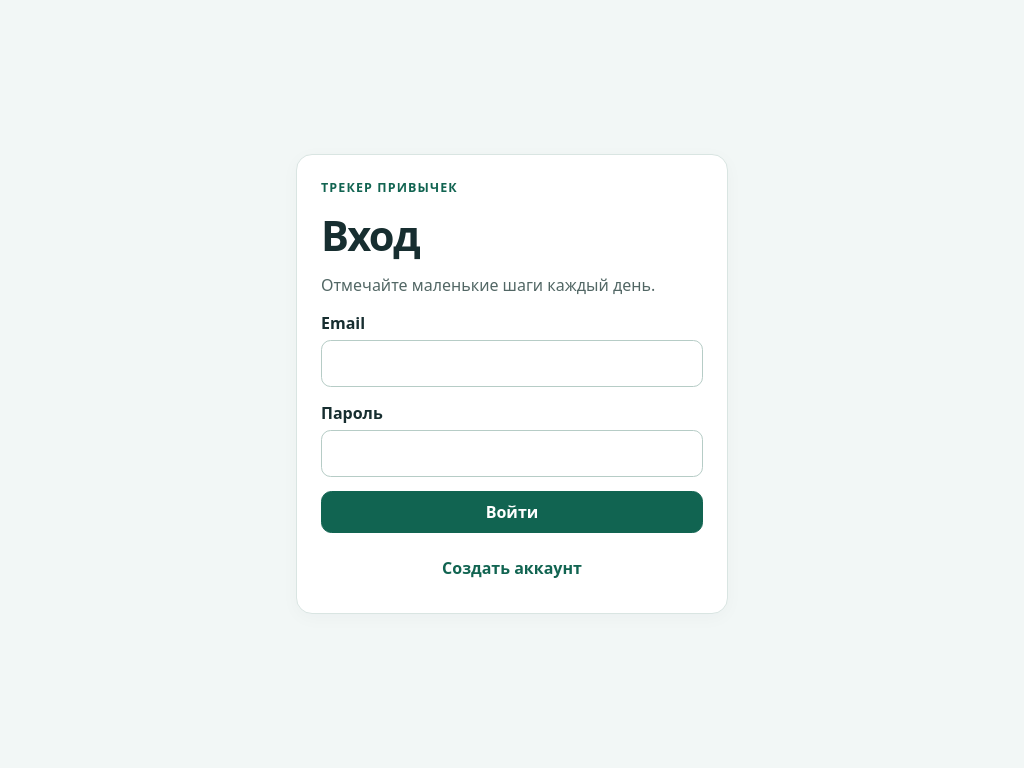
Авторизация › получает токен через login после регистрации без токена
This screenshot has width=1024, height=768.
Click the button "Создать аккаунт" at (512, 568), box [321,547,703,589]
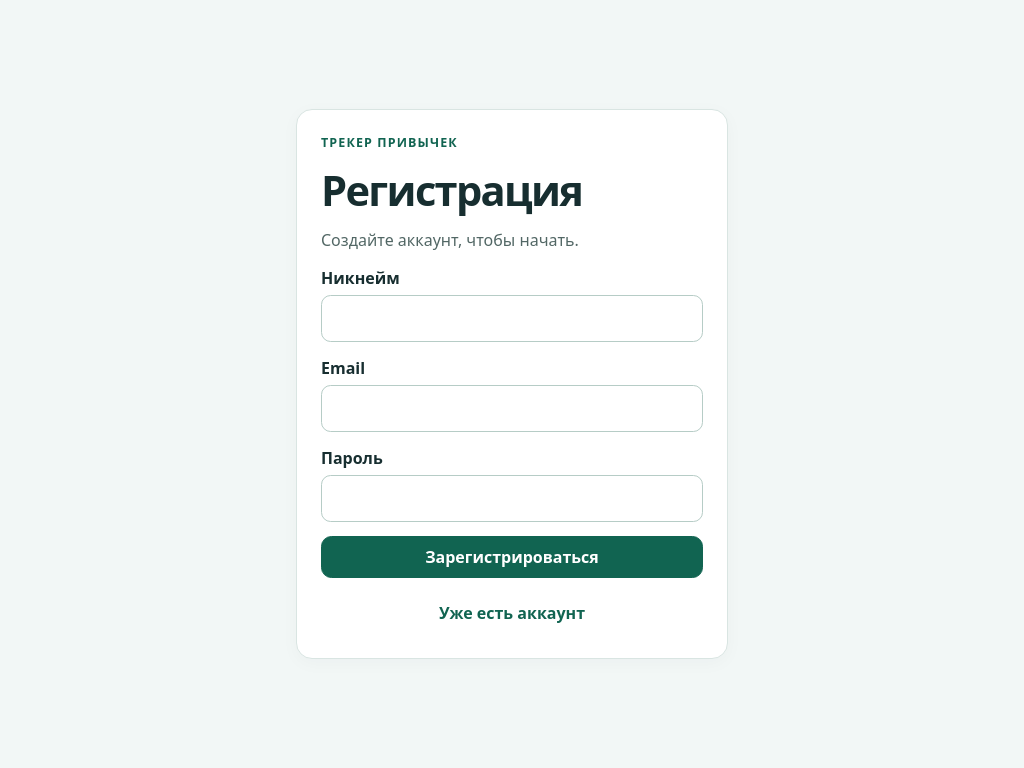
Type "Читатель" into the field labelled "Никнейм" at (512, 318), box [321,295,703,342]
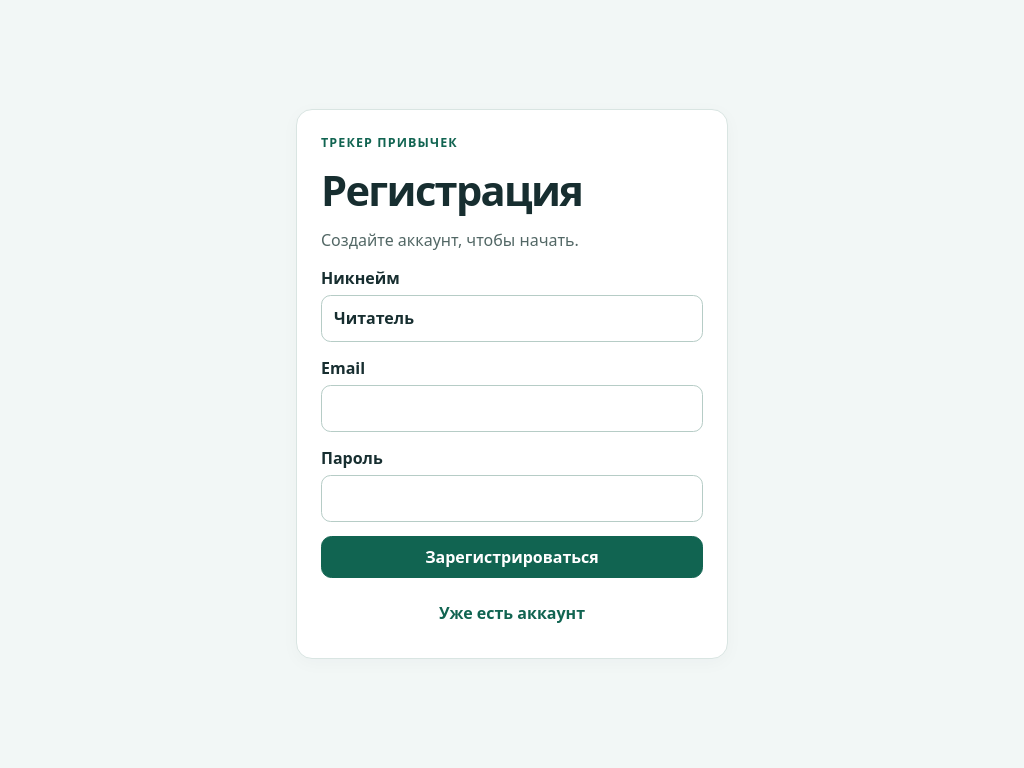
Type "reader@example.test" into the field labelled "Email" at (512, 408), box [321,385,703,432]
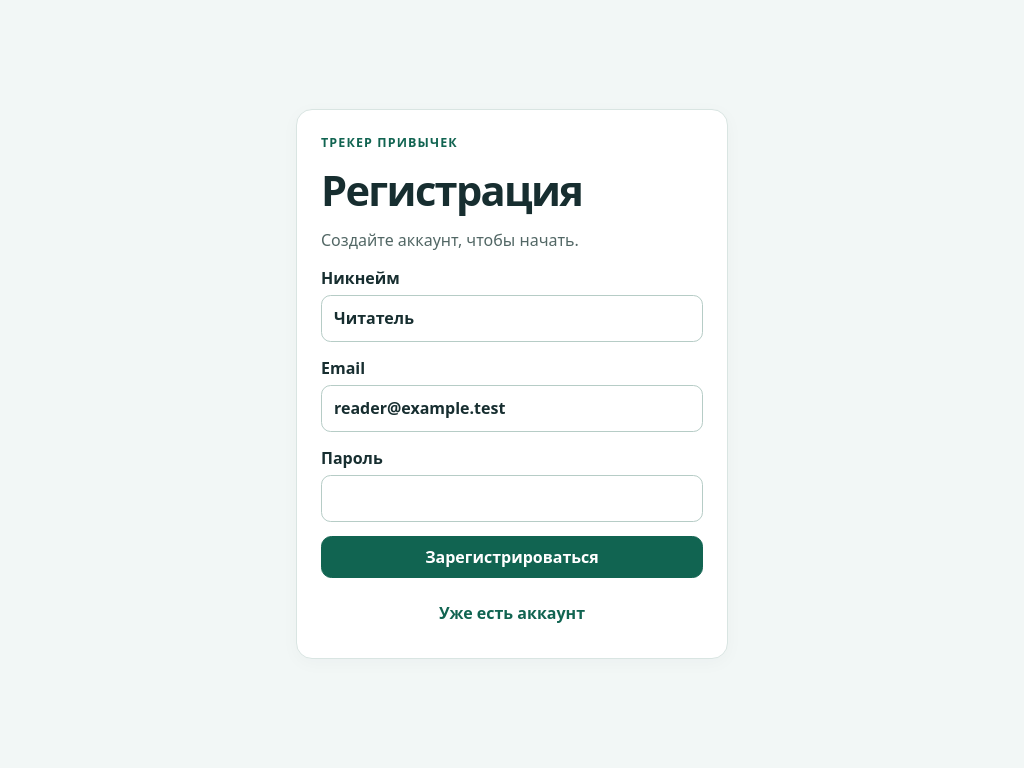
Type "password" into the password field labelled "Пароль" at (512, 498), box [321,475,703,522]
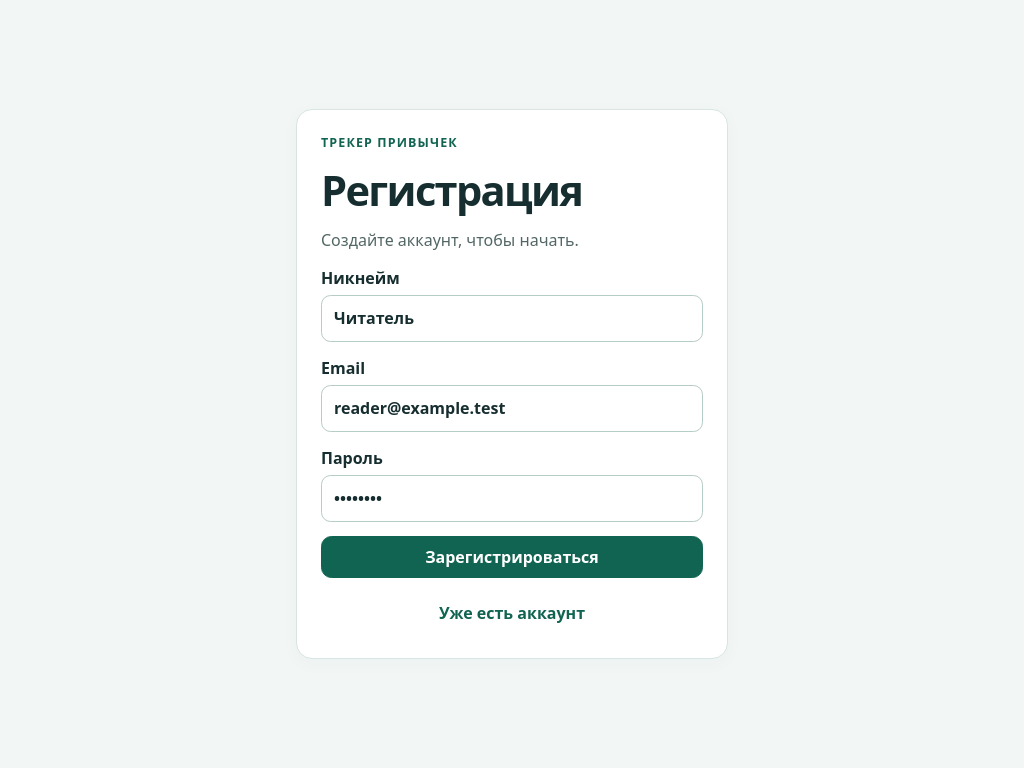
Click the button "Зарегистрироваться" at (512, 557), box [321,536,703,578]
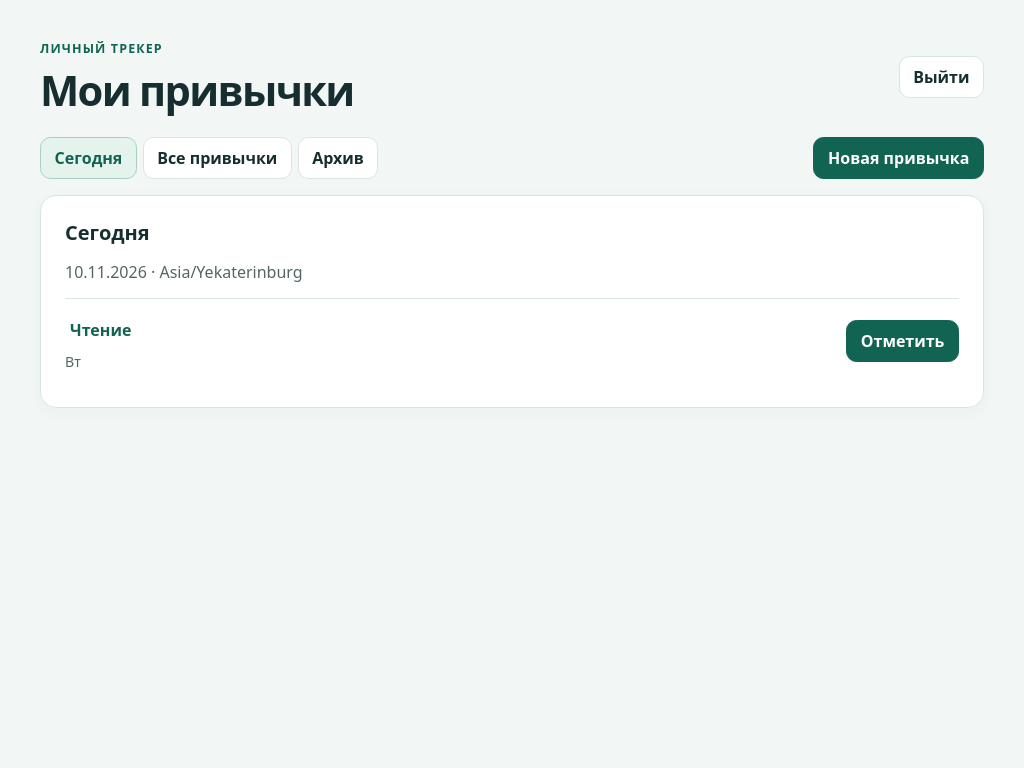
Check: the button "Отметить" is enabled, box [846,320,959,362]
Click the button "Выйти" at (941, 77), box [899,56,984,98]
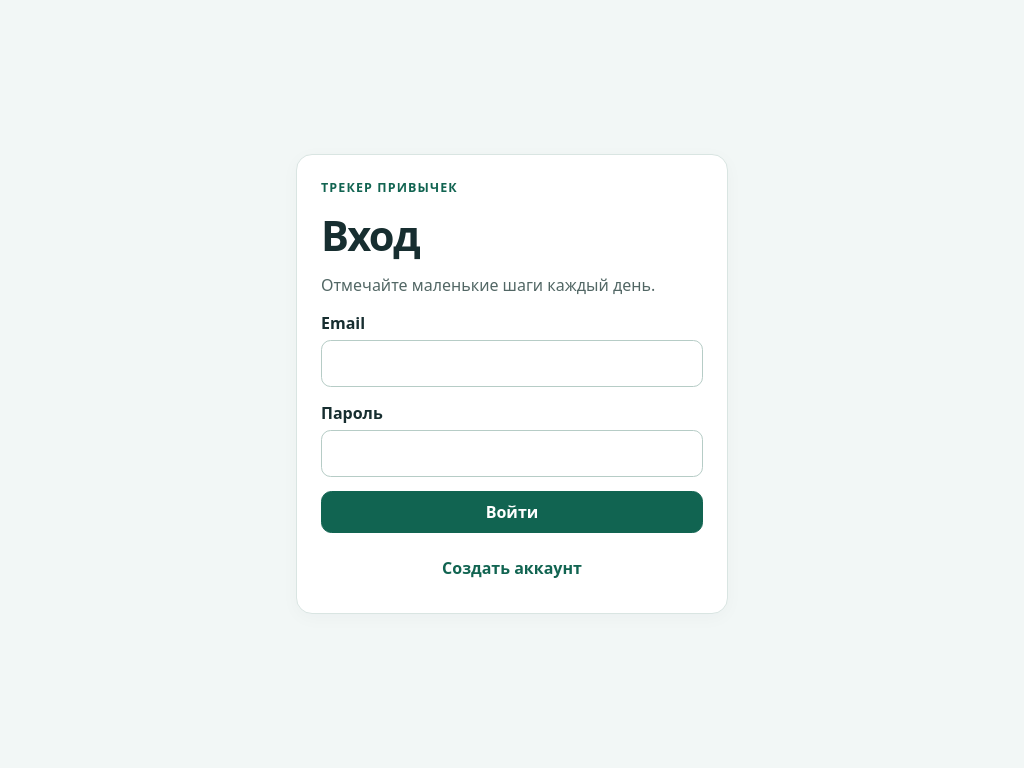
Check: the heading "Вход" is shown, box [321,207,419,263]
